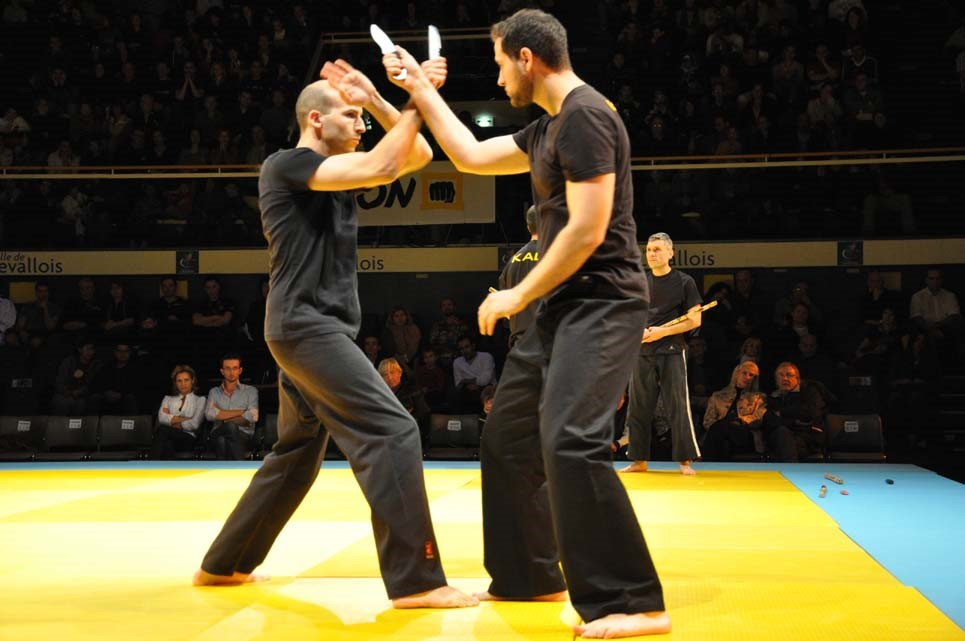baston_e: (664, 300, 715, 329)
baston_v: (713, 298, 720, 306)
